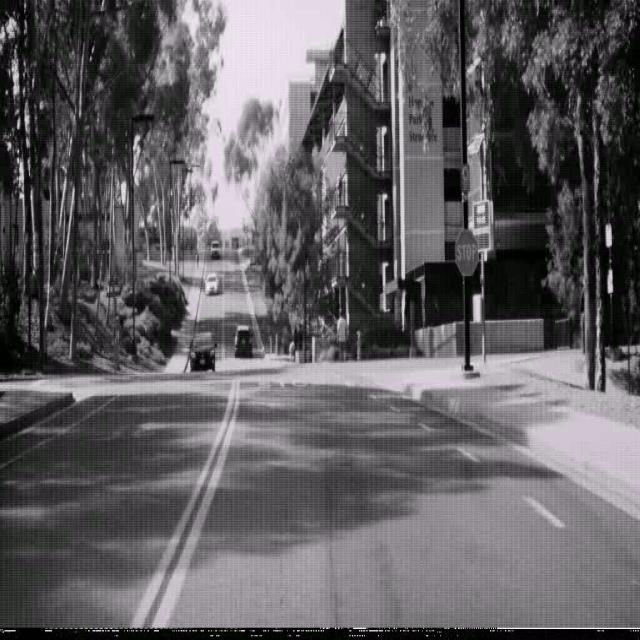stop_sign: (454, 228, 479, 277)
